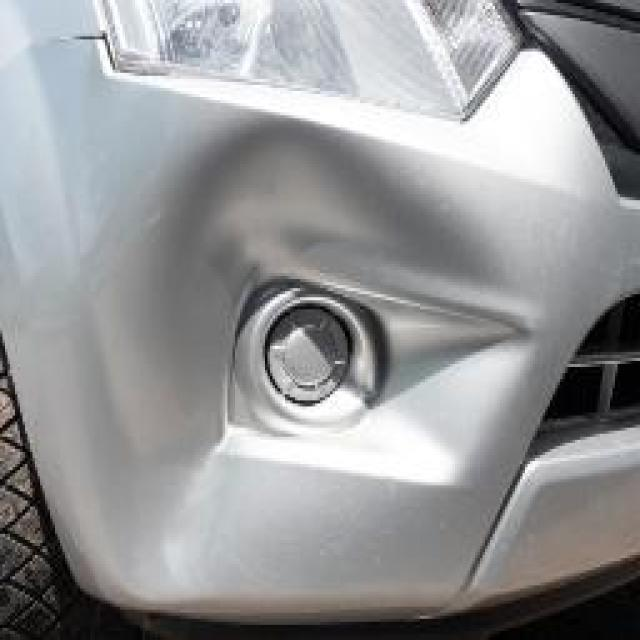Bumper: (105, 118, 572, 579)
